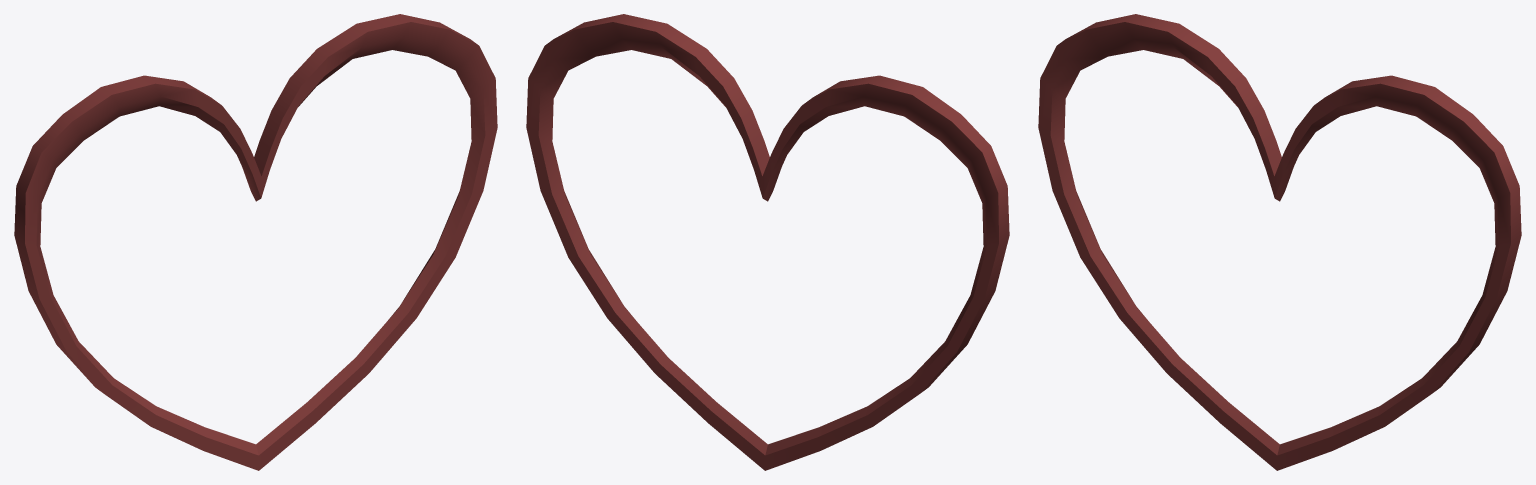
The model's file is heart_outline.glb.
The picture shows the model from 3 angles, left to right: view 1: azimuth 30°, elevation 25°; view 2: azimuth 150°, elevation 25°; view 3: azimuth 330°, elevation 25°; orthographic projection.
Parts seen in each view (by area): view 1: Heart_Outline; view 2: Heart_Outline; view 3: Heart_Outline.
Boxes of the visible parts, x1,y1,x2,y2 form: Heart_Outline: (14,14,497,470); Heart_Outline: (526,14,1009,470); Heart_Outline: (1038,14,1521,470).
Bounding box in the file's own units: 1.48 × 1.24 × 0.0607.
